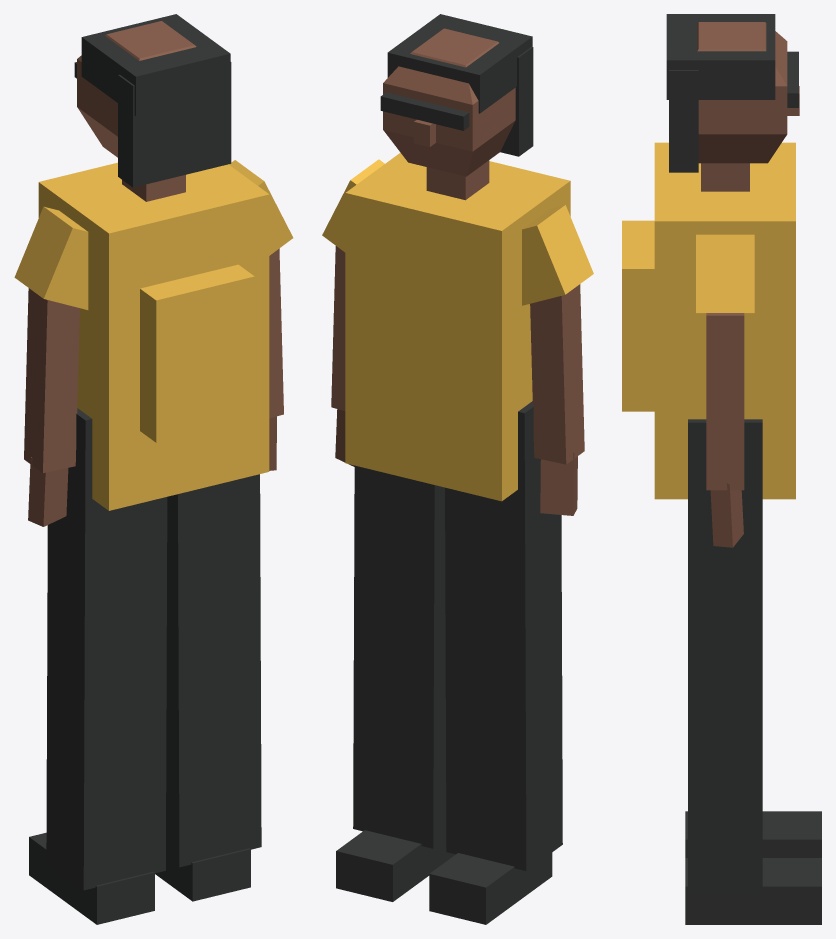
Rendered from pedestrian_10.glb.
3 renders of one model, left to right at view 1: azimuth 30°, elevation 25°; view 2: azimuth 150°, elevation 25°; view 3: azimuth 270°, elevation 25°, orthographic. The views are drawn at different scales.
Parts seen in each view (by area): view 1: pedestrian_10 crowd_trousers, pedestrian_10 crowd_shirt, pedestrian_10 crowd_rubber, pedestrian_10 crowd_skin, Backpack; view 2: pedestrian_10 crowd_trousers, pedestrian_10 crowd_shirt, pedestrian_10 crowd_skin, pedestrian_10 crowd_rubber; view 3: pedestrian_10 crowd_shirt, pedestrian_10 crowd_trousers, pedestrian_10 crowd_rubber, pedestrian_10 crowd_skin, Backpack.
Boxes of the visible parts, x1,y1,x2,y2 form: pedestrian_10 crowd_trousers: (46,408,261,890); pedestrian_10 crowd_shirt: (14,160,293,510); pedestrian_10 crowd_rubber: (29,14,250,924); pedestrian_10 crowd_skin: (24,21,283,526); Backpack: (140,264,254,442); pedestrian_10 crowd_trousers: (353,401,562,871); pedestrian_10 crowd_shirt: (322,153,593,501); pedestrian_10 crowd_skin: (331,28,584,515); pedestrian_10 crowd_rubber: (336,14,552,924); pedestrian_10 crowd_shirt: (654,142,795,499); pedestrian_10 crowd_trousers: (688,419,762,894); pedestrian_10 crowd_rubber: (666,14,821,924); pedestrian_10 crowd_skin: (697,22,799,547); Backpack: (622,220,654,411).
Size of the model in its own units: 0.527 by 1.71 by 0.3638.
